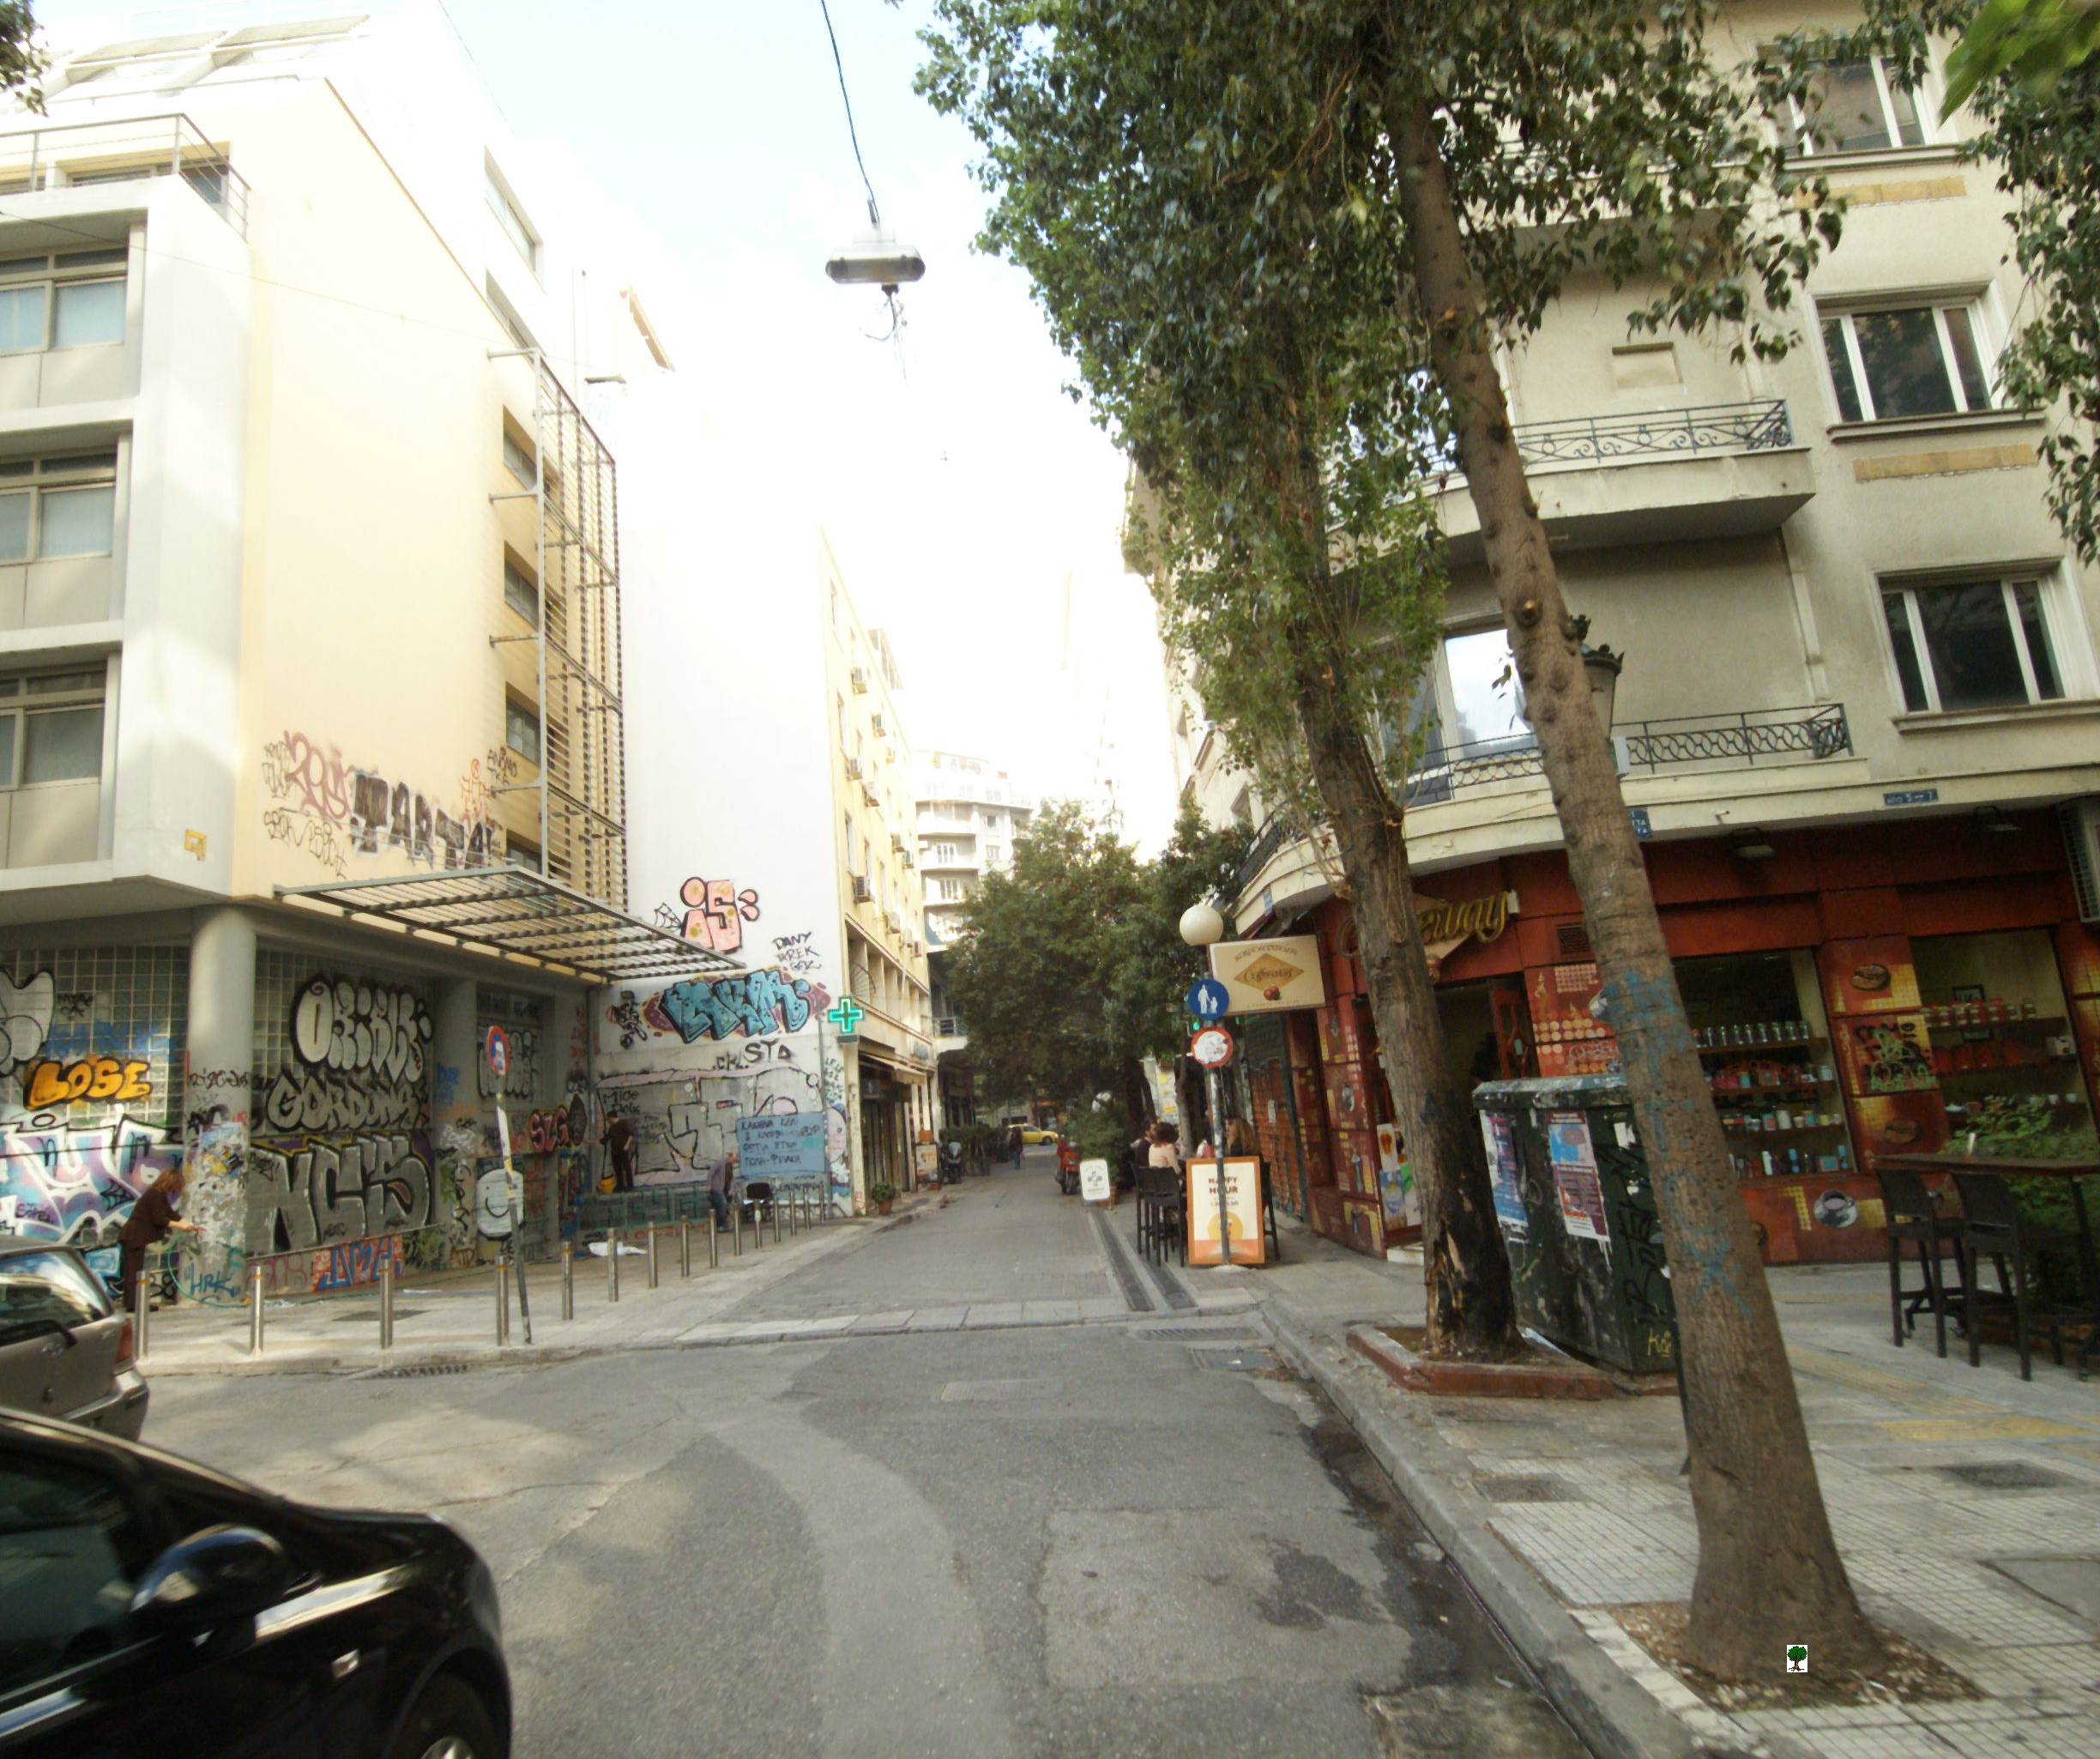tree: (998, 2, 1559, 1548)
